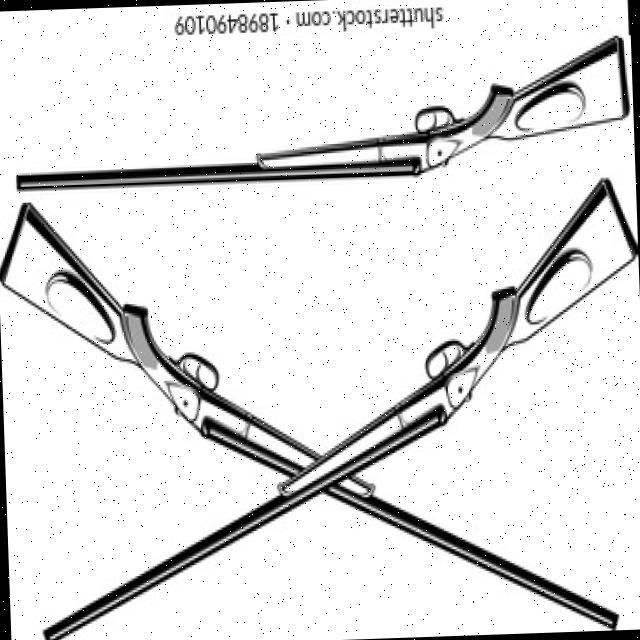Shotgun: (23, 169, 627, 640), (0, 191, 628, 640), (3, 31, 632, 206)
